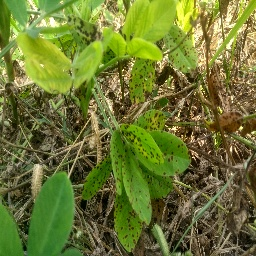GroundNut_Leaf: (28, 171, 74, 256), (21, 32, 71, 94), (120, 123, 165, 165), (121, 167, 152, 225), (74, 42, 103, 88), (141, 2, 176, 40), (129, 58, 156, 103), (83, 156, 110, 198), (1, 210, 24, 252)
